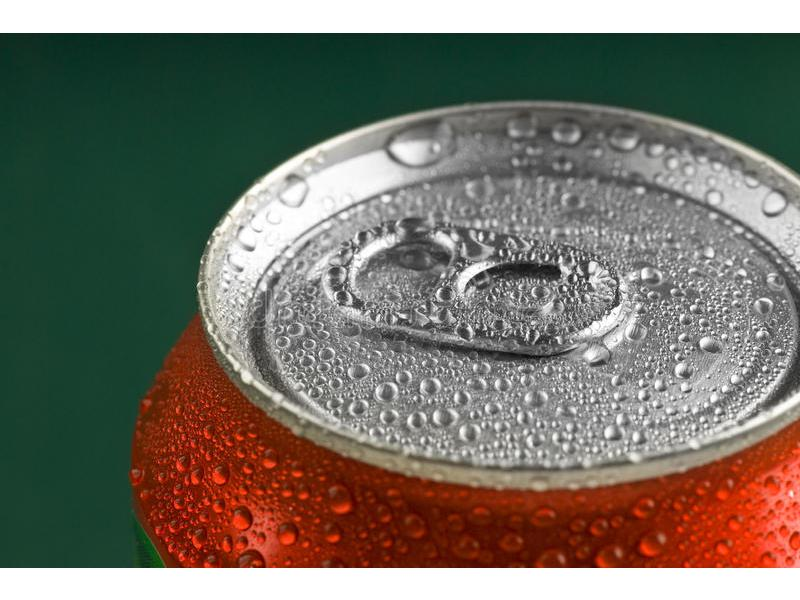can: (128, 97, 800, 566)
